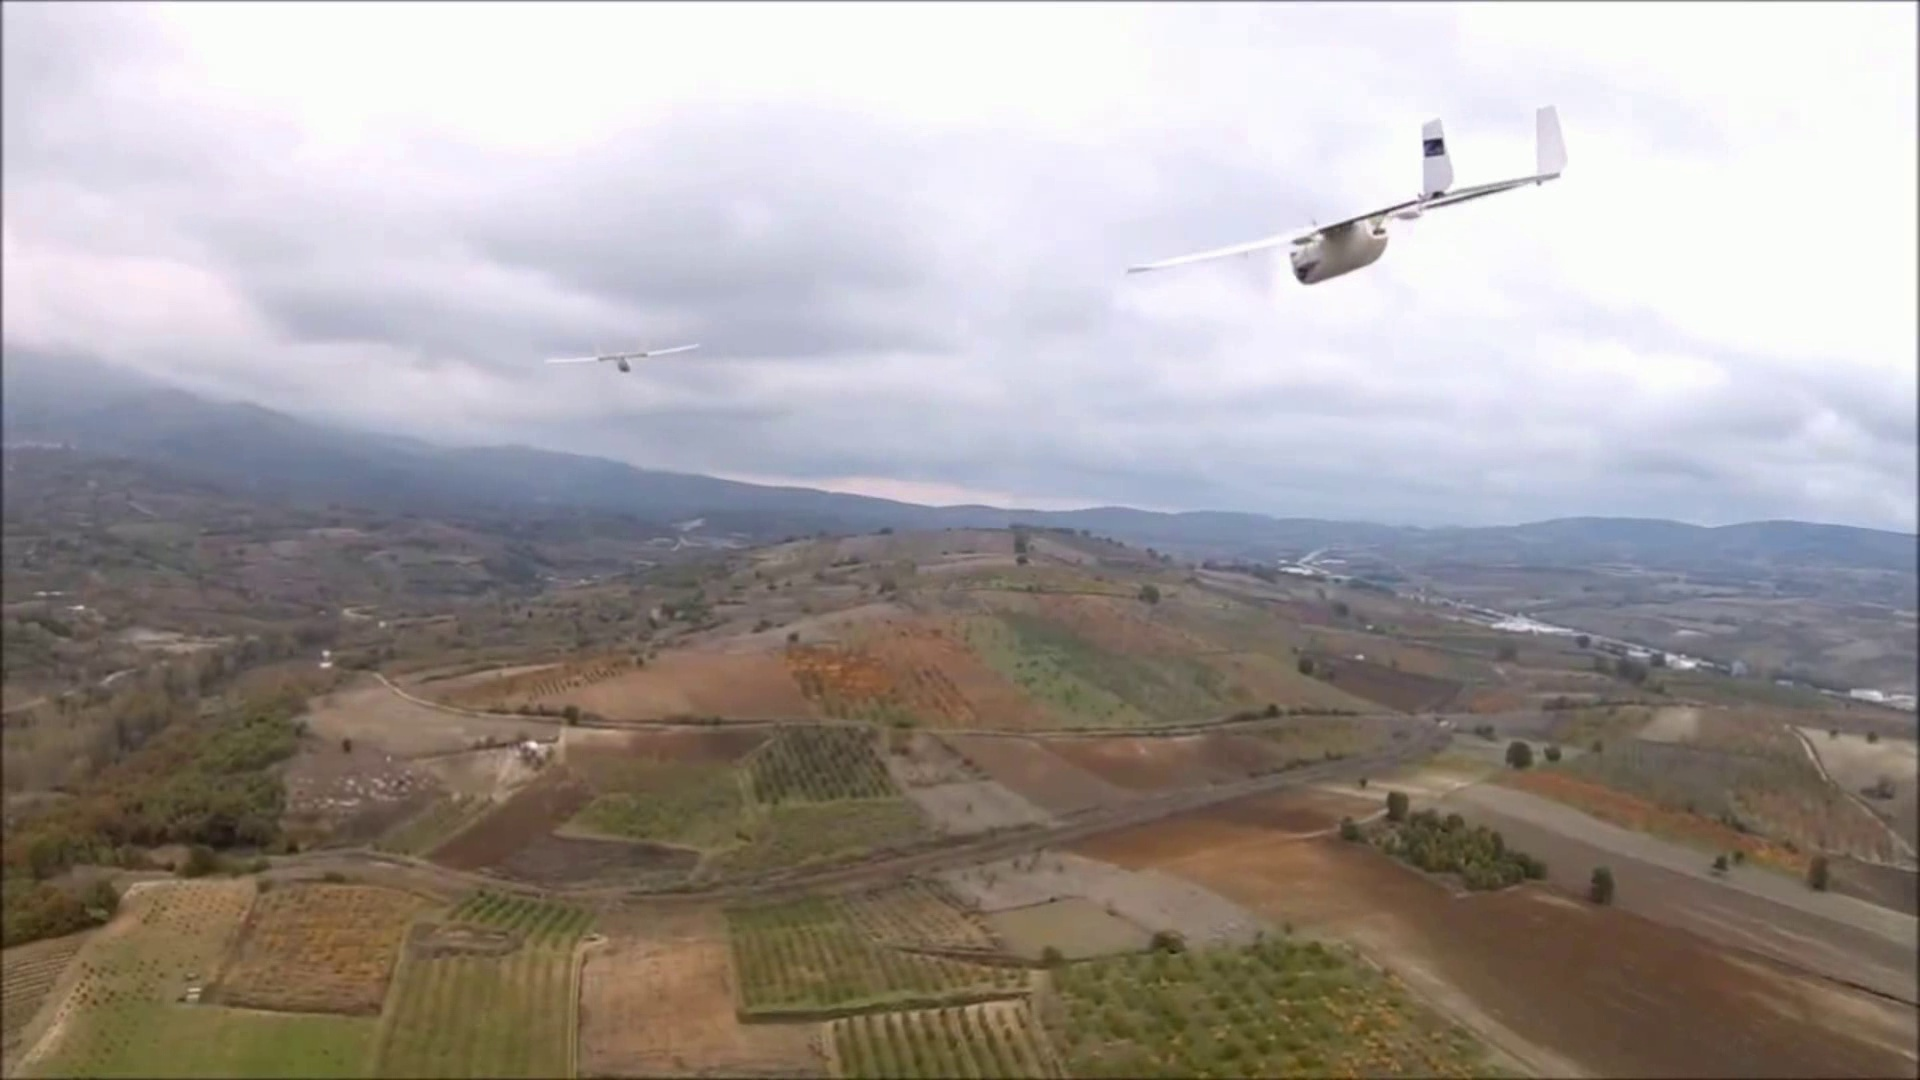airplane: (1124, 107, 1564, 287), (595, 345, 705, 375)
